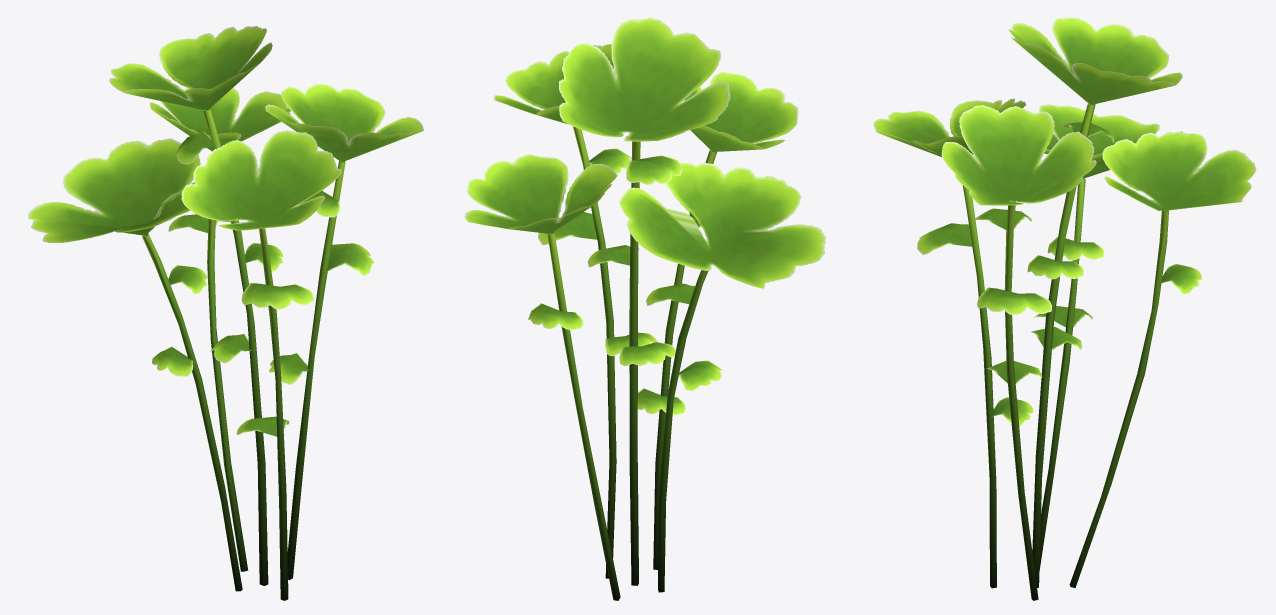
File: Clover_2.gltf
3 renders of one model, left to right at view 1: azimuth 30°, elevation 25°; view 2: azimuth 150°, elevation 25°; view 3: azimuth 270°, elevation 25°, orthographic. The views are drawn at different scales.
Parts seen in each view (by area): view 1: Clover_2_1; view 2: Clover_2_1; view 3: Clover_2_1.
Part boxes in pixels (<box>): Clover_2_1: <box>28,26,423,600</box>; Clover_2_1: <box>464,17,826,600</box>; Clover_2_1: <box>873,17,1256,600</box>.
Bounding box in the file's own units: 0.3704 × 0.5499 × 0.3641.
Materials: 1 (1 with a texture image).
